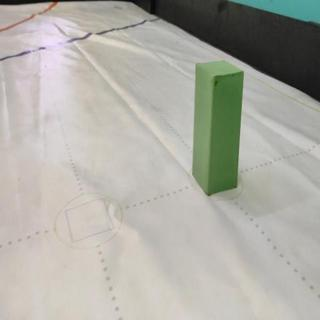greenbox: (193, 59, 246, 196)
